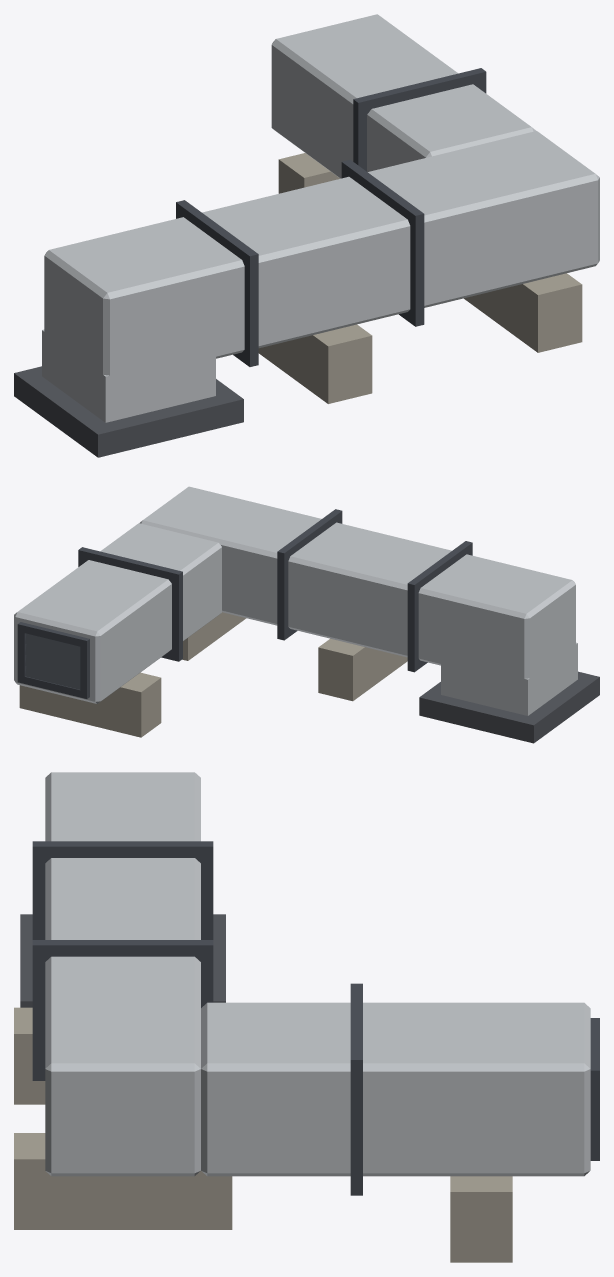
Rendered from roof_duct.glb.
3 views of the same model, one above another, from view 1: azimuth 30°, elevation 25°; view 2: azimuth 150°, elevation 25°; view 3: azimuth 270°, elevation 25° (orthographic). The views are drawn at different scales.
Parts seen in each view (by area): view 1: roof_duct__mesh; view 2: roof_duct__mesh; view 3: roof_duct__mesh.
Boxes of the visible parts, x1,y1,x2,y2 form: roof_duct__mesh: (14, 14, 599, 457); roof_duct__mesh: (14, 486, 599, 743); roof_duct__mesh: (14, 772, 599, 1262).
Bounding box in the file's own units: 2.43 × 0.69 × 1.88.
1 material, 1 textured.
